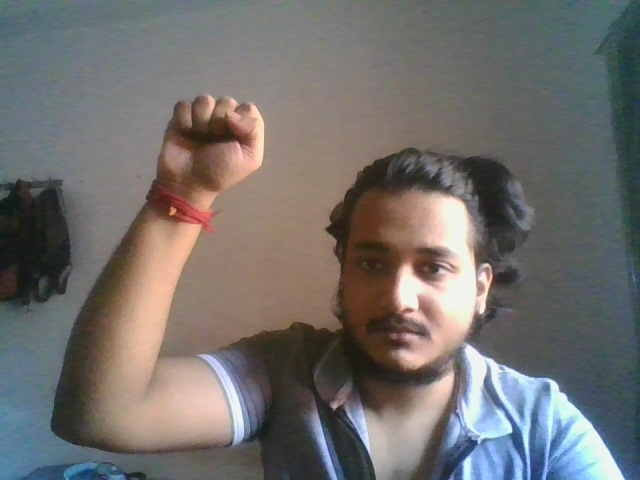Close: (156, 93, 266, 193)
